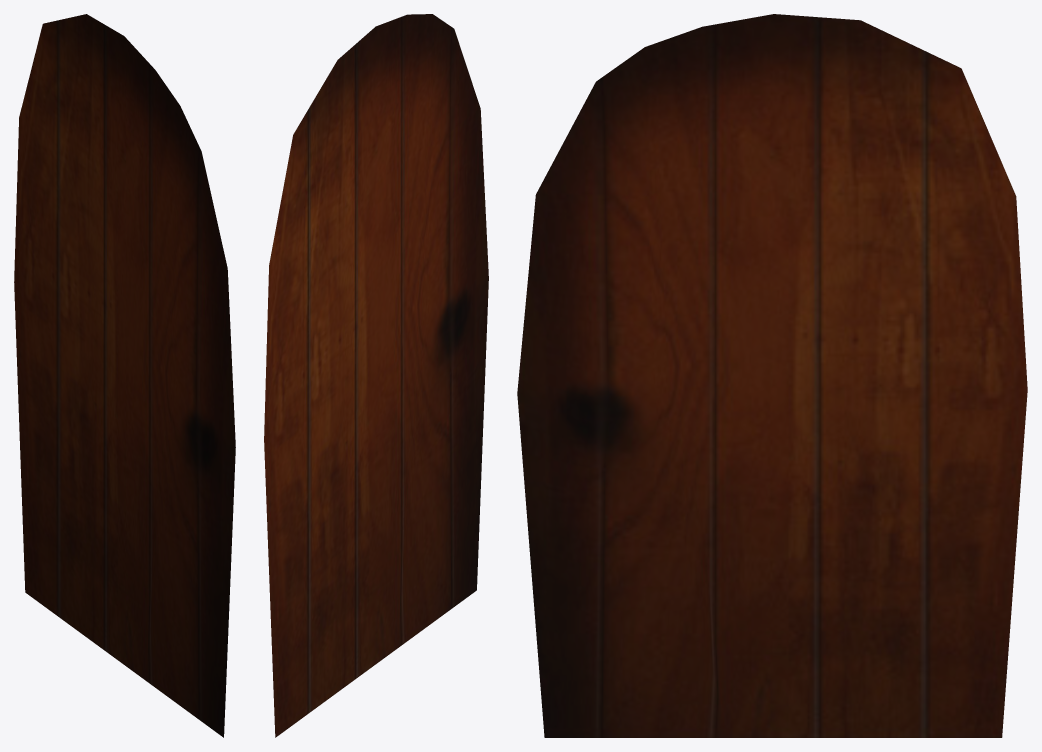
Rendered from bedroom_bedroomdoor.dae.
The picture shows the model from 3 angles, left to right: view 1: azimuth 30°, elevation 25°; view 2: azimuth 150°, elevation 25°; view 3: azimuth 270°, elevation 25°; orthographic projection. The views are drawn at different scales.
Parts seen in each view (by area): view 1: BigDoor; view 2: BigDoor; view 3: BigDoor.
Boxes of the visible parts, x1,y1,x2,y2 form: BigDoor: [14, 14, 235, 737]; BigDoor: [264, 14, 488, 737]; BigDoor: [517, 14, 1027, 737].
Size of the model in its own units: 3.09e-15 by 11.6 by 7.41.
Materials: 1 (1 with a texture image).
